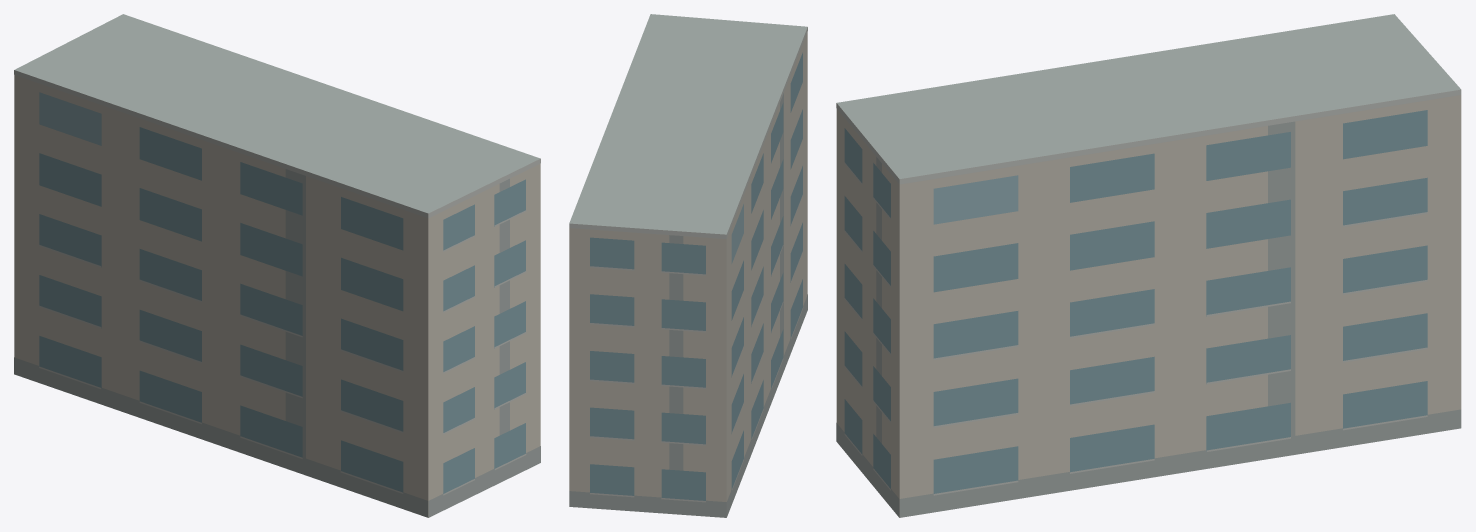
The model's file is survey-upis-32573223.glb.
3 renders of one model, left to right at view 1: azimuth 30°, elevation 25°; view 2: azimuth 150°, elevation 25°; view 3: azimuth 270°, elevation 25°, orthographic. The views are drawn at different scales.
Parts seen in each view (by area): view 1: survey-upis-32573223.tmp; view 2: survey-upis-32573223.tmp; view 3: survey-upis-32573223.tmp.
Boxes of the visible parts, box(x1,y1,x2,y2) form: survey-upis-32573223.tmp: box(14, 14, 540, 517); survey-upis-32573223.tmp: box(569, 14, 807, 517); survey-upis-32573223.tmp: box(836, 14, 1461, 517).
Size of the model in its own units: 15.96 by 15.25 by 25.51.
